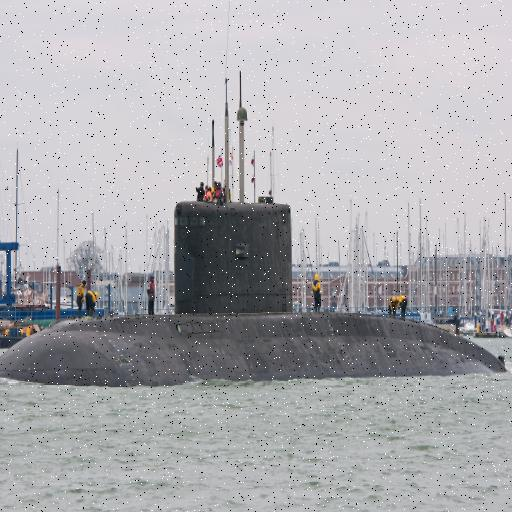submarine: (1, 199, 509, 390)
